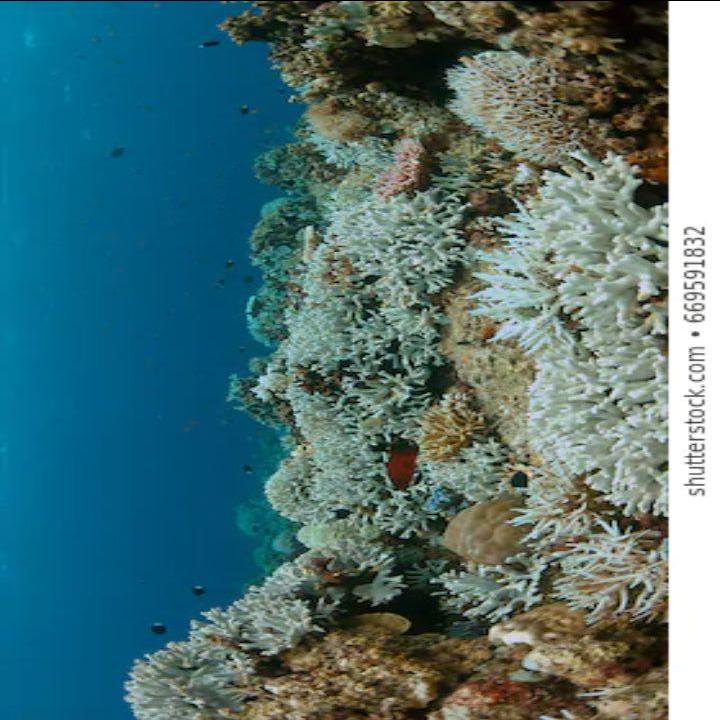Bleached disease: (138, 45, 667, 711)
